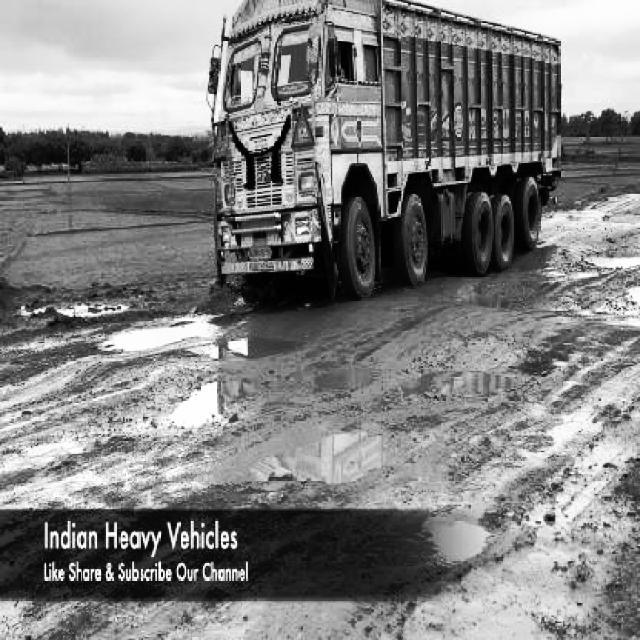HCV: (212, 34, 550, 278)
